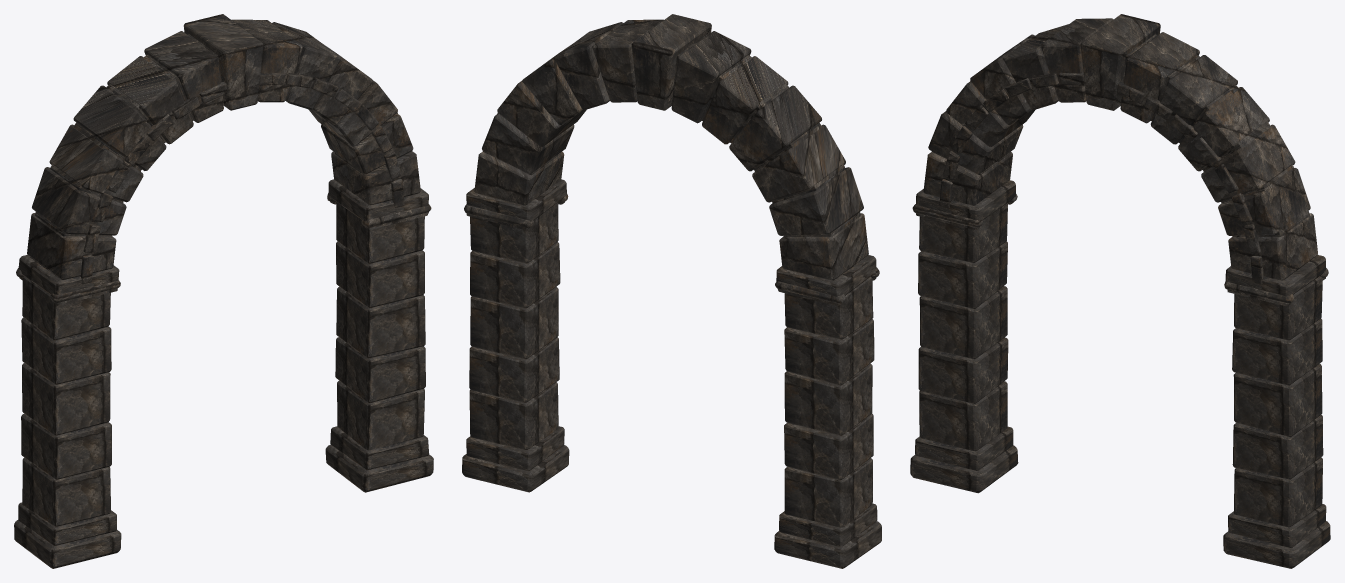
The model's file is crypt_stone_portal.glb.
3 renders of one model, left to right at view 1: azimuth 30°, elevation 25°; view 2: azimuth 150°, elevation 25°; view 3: azimuth 330°, elevation 25°, orthographic.
Visible parts, largest first — view 1: Crypt Stone Portal Mesh; view 2: Crypt Stone Portal Mesh; view 3: Crypt Stone Portal Mesh.
Boxes of the visible parts, x1=… form: Crypt Stone Portal Mesh: x1=14, y1=14, x2=433, y2=568; Crypt Stone Portal Mesh: x1=462, y1=14, x2=881, y2=568; Crypt Stone Portal Mesh: x1=910, y1=14, x2=1330, y2=568.
Size of the model in its own units: 3.54 by 4.2 by 0.6634.
3 materials, 3 textured.
